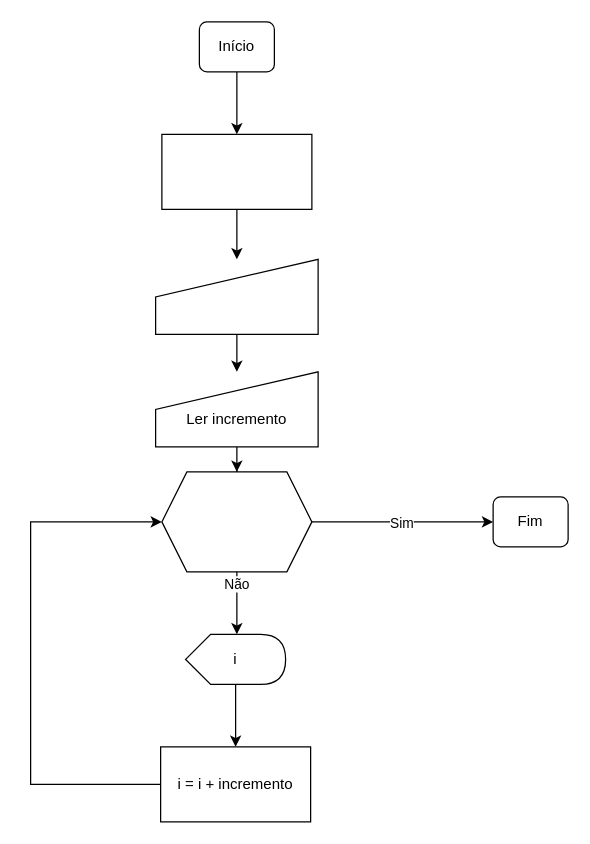
This 590x844 diagram has some shape labels left out. Here are the shapes that lost their labels. From the top down, the centre of each, then its label:
At pixel 236 171: "i = 0".
At pixel 236 296: "Ler superior".
At pixel 236 521: "i > superior?".
